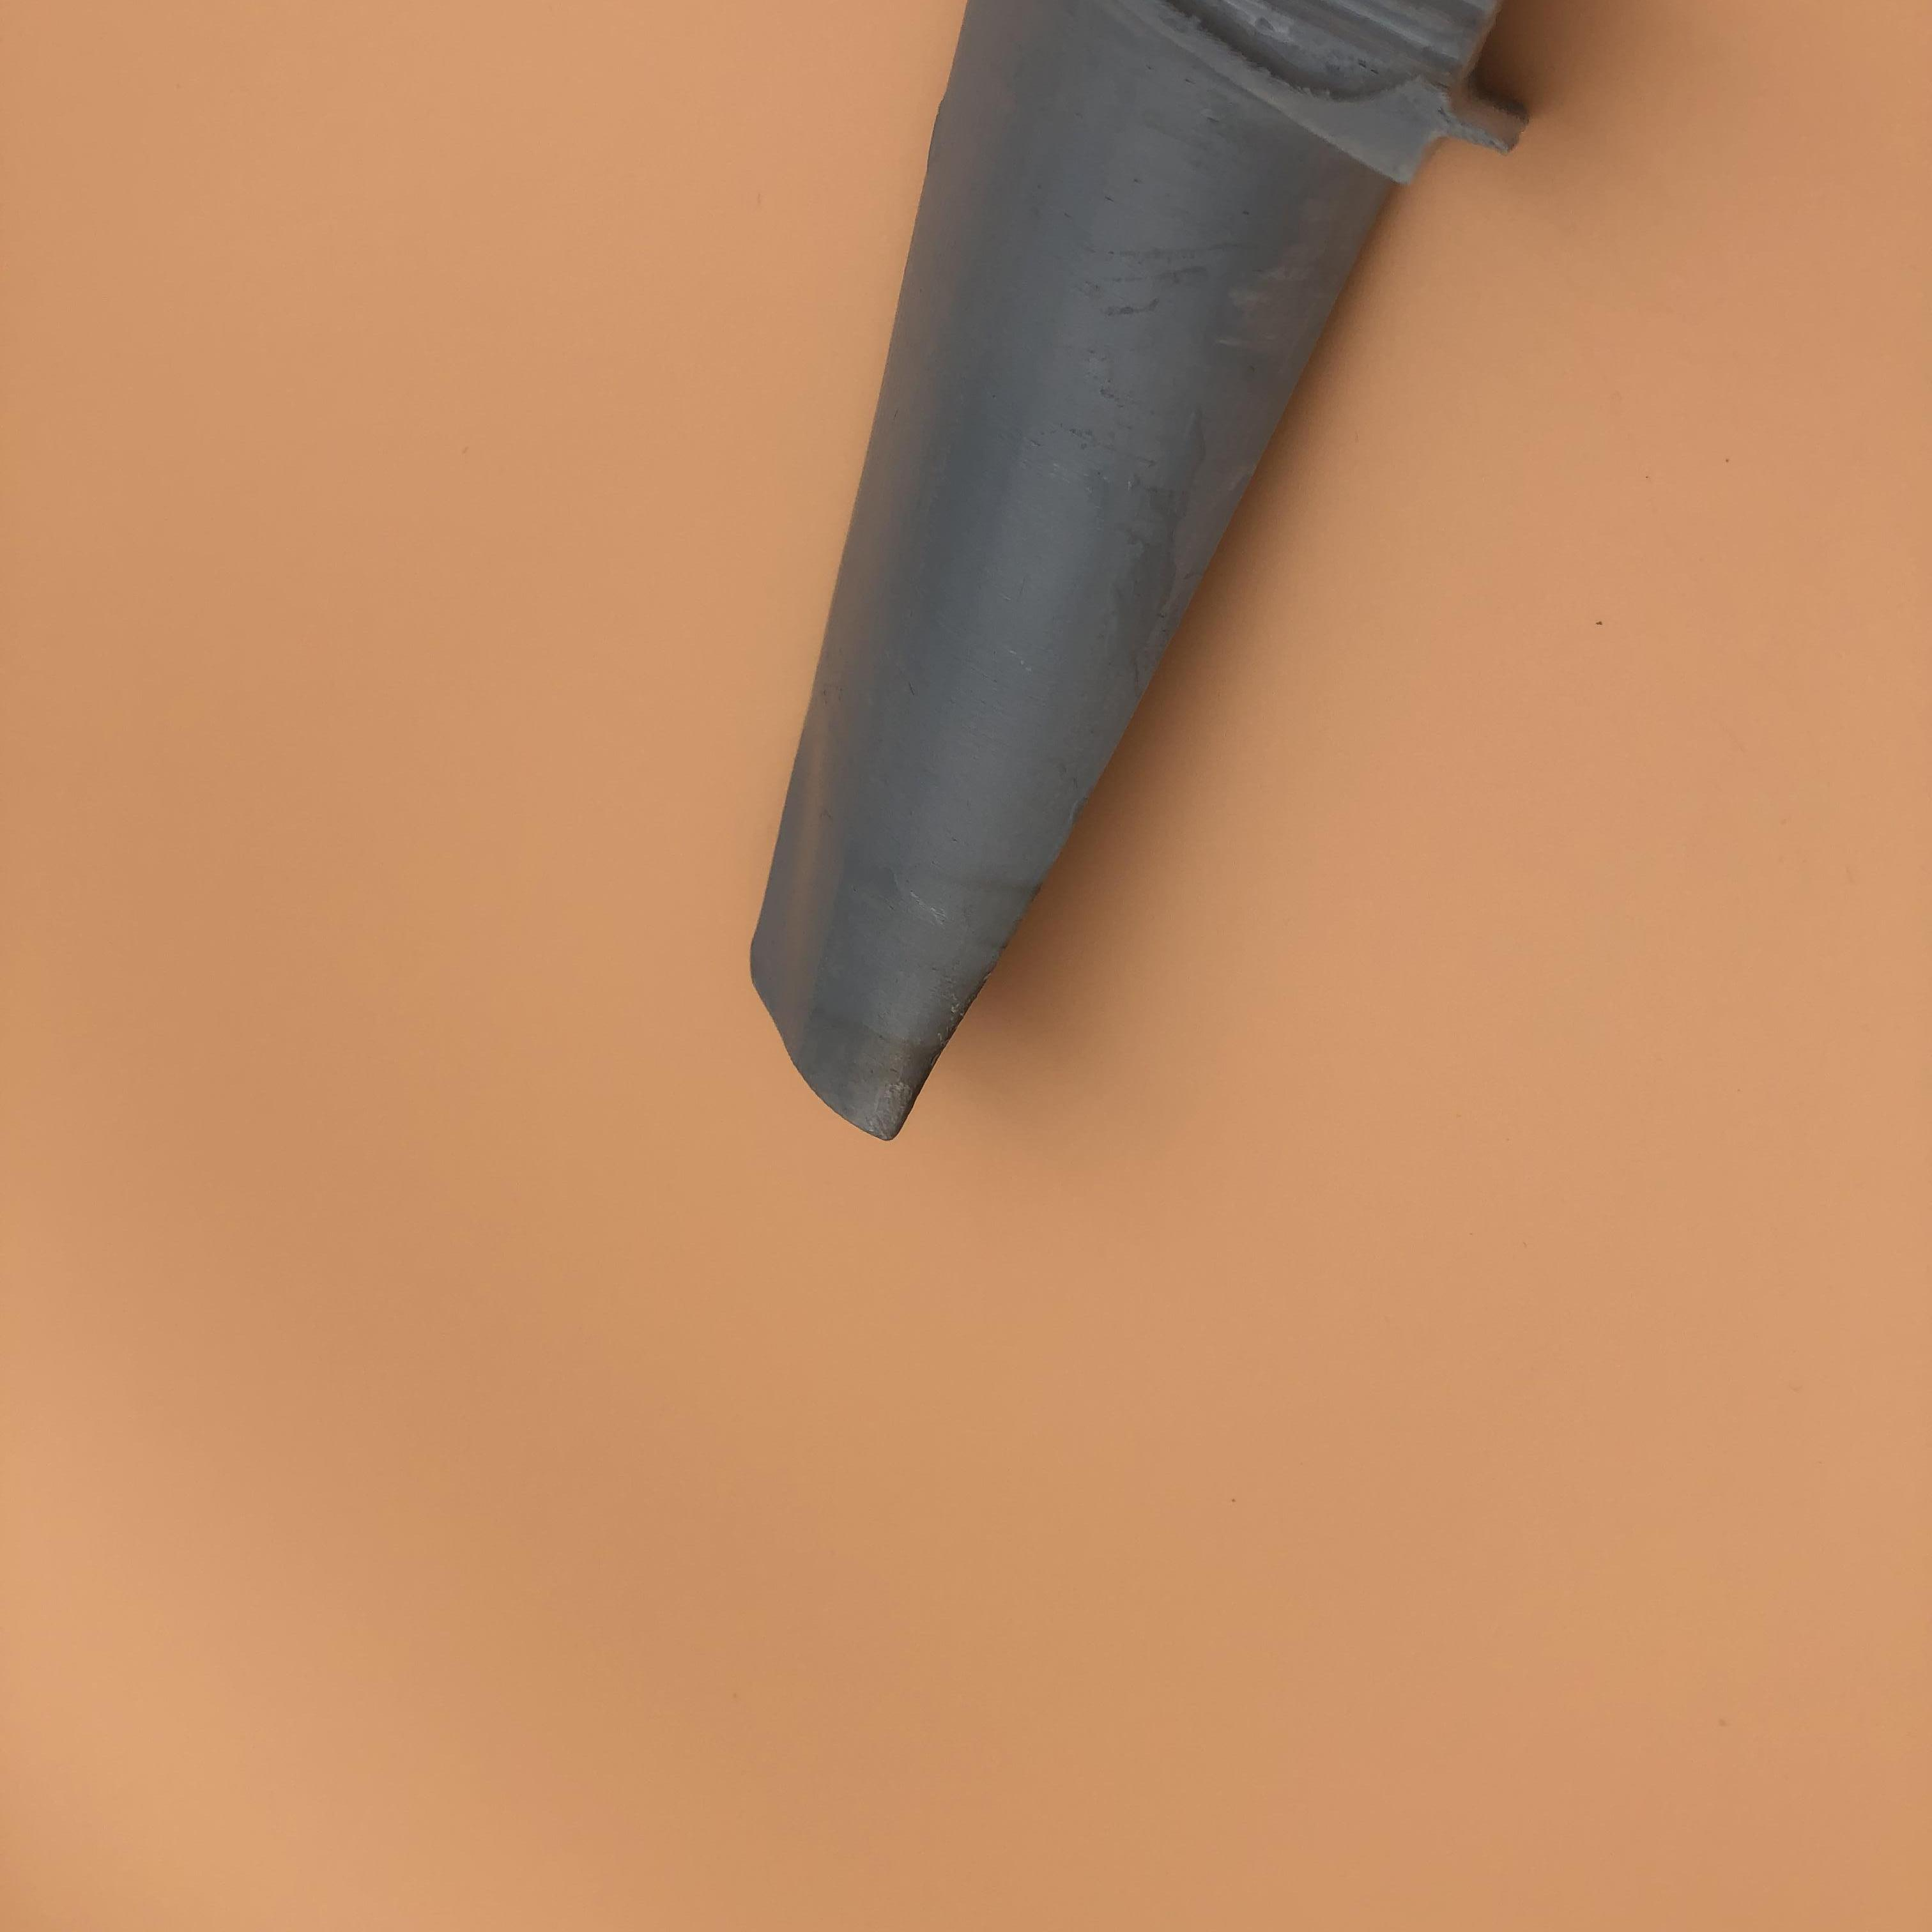ablation: (893, 971, 993, 1136)
